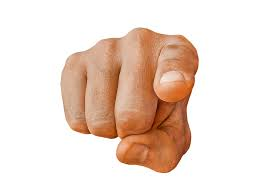hand: (44, 18, 215, 178)
